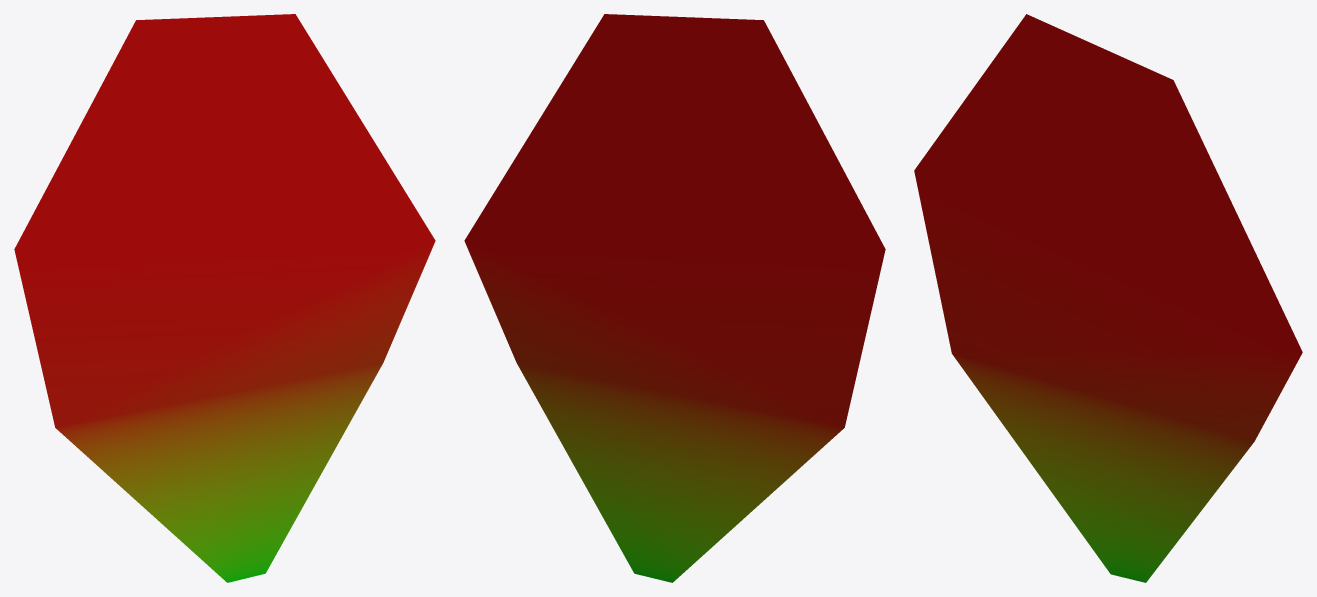
File: Var1_LOD3.fbx
The picture shows the model from 3 angles, left to right: view 1: azimuth 30°, elevation 25°; view 2: azimuth 150°, elevation 25°; view 3: azimuth 330°, elevation 25°; orthographic projection. The views are drawn at different scales.
Visible parts, largest first — view 1: _0464_Var1_LOD3; view 2: _0464_Var1_LOD3; view 3: _0464_Var1_LOD3.
Part boxes in pixels (left/top/right/bottom): _0464_Var1_LOD3: left=14, top=14, right=435, bottom=582; _0464_Var1_LOD3: left=464, top=14, right=885, bottom=582; _0464_Var1_LOD3: left=914, top=14, right=1302, bottom=582.
Bounding box in the file's own units: 67.96 × 90.19 × 8.11e-06.
